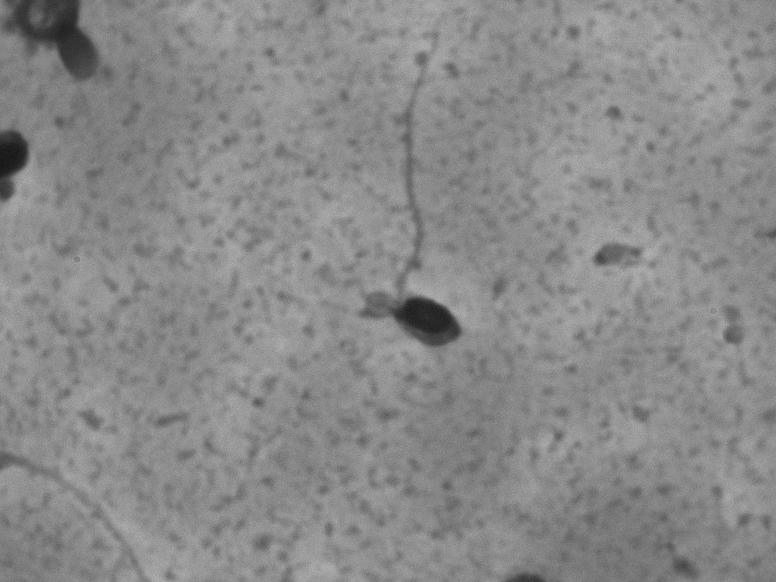Abnormal: (338, 16, 489, 373)
